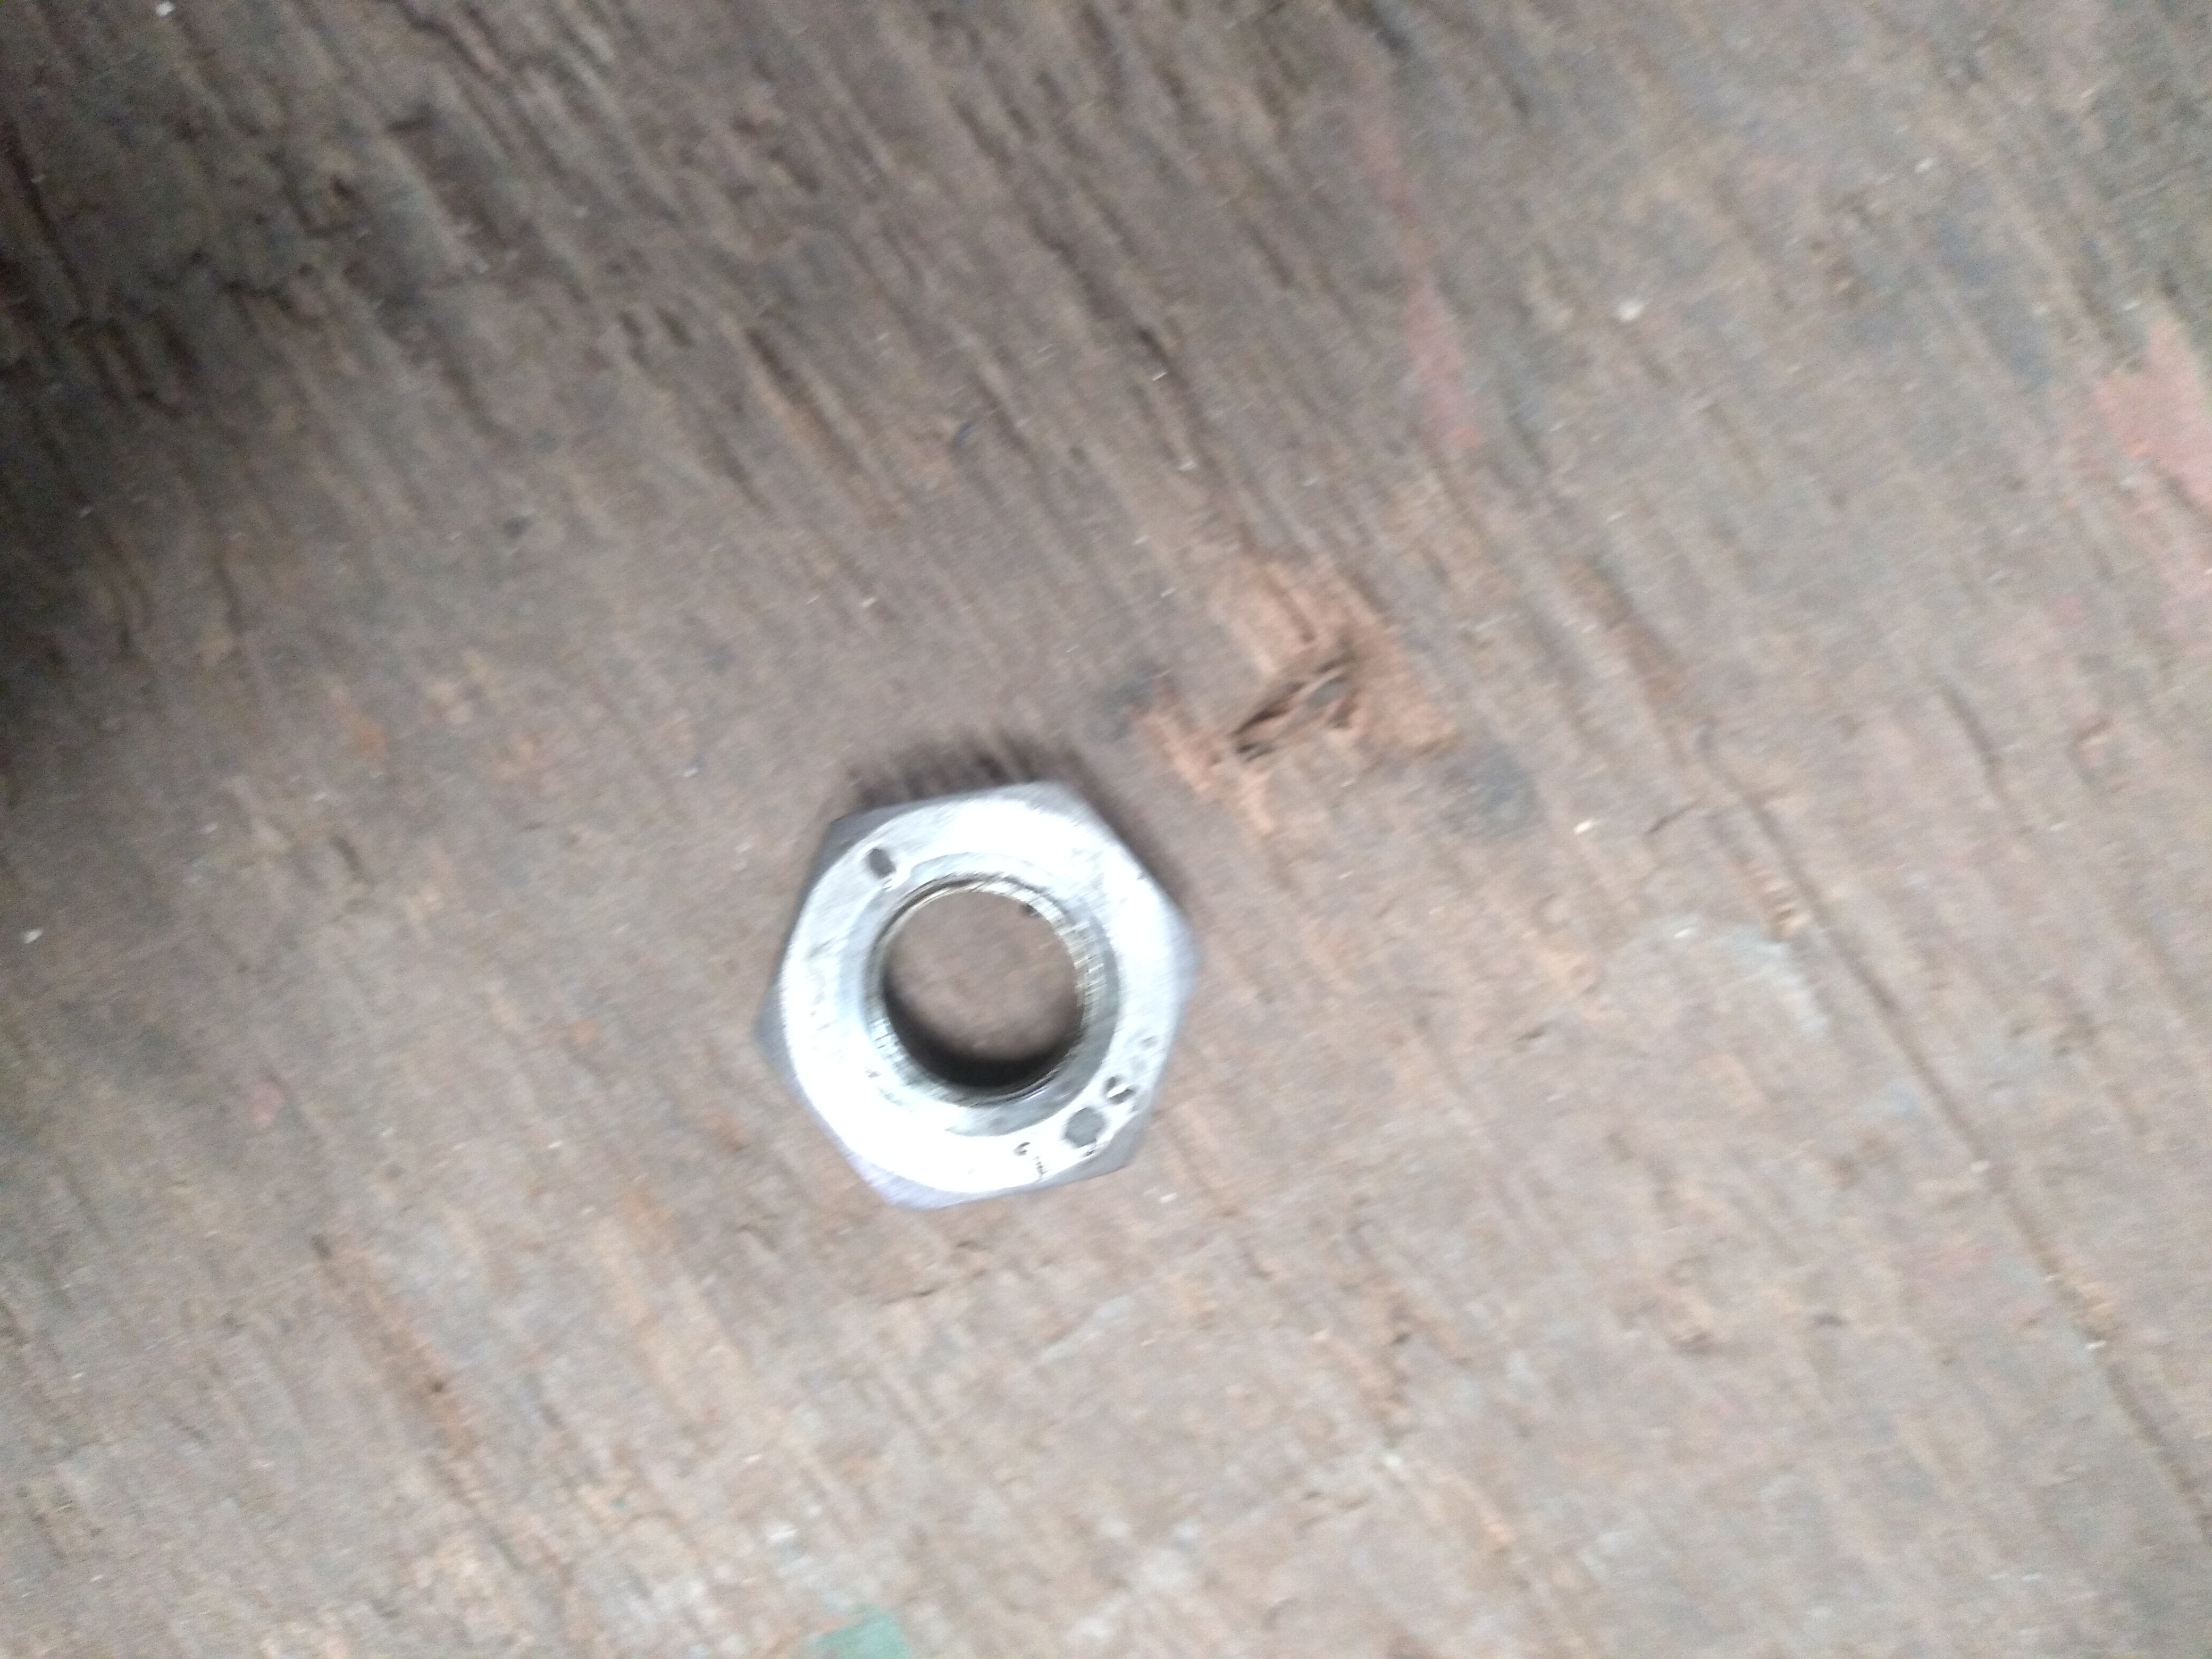Thread: (824, 843, 1163, 1126)
